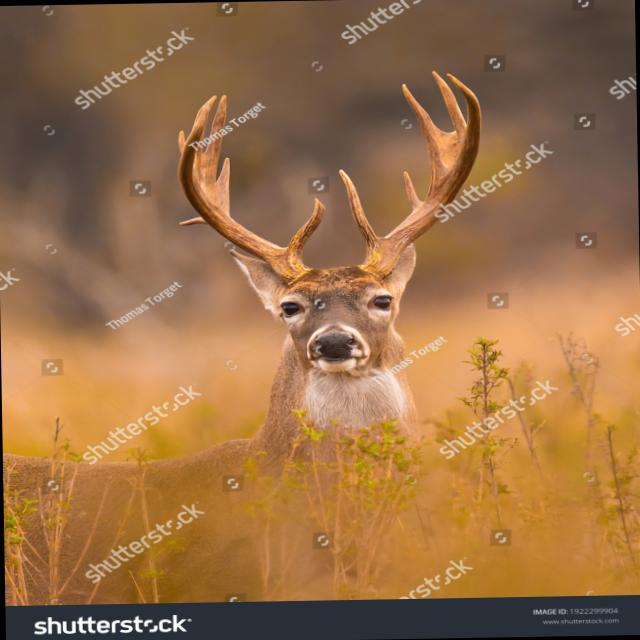E1: (178, 216, 208, 225)
L-F: (357, 73, 482, 283)
L-G1: (338, 168, 385, 258)
L-G2: (402, 170, 423, 212)
L-G3: (401, 82, 459, 189)
R-F: (177, 99, 310, 285)
R-G1: (283, 198, 325, 261)
